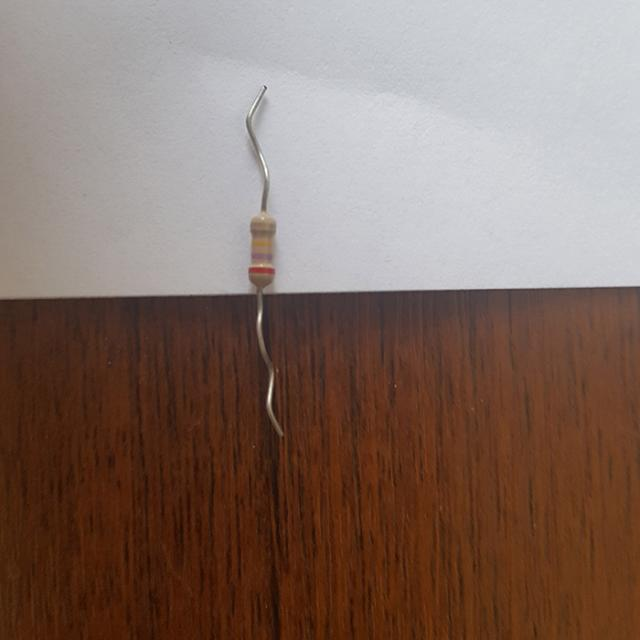gold: (251, 221, 274, 228)
red: (250, 266, 274, 272)
resistor: (236, 209, 284, 291)
violet: (252, 253, 272, 259)
yellow: (251, 240, 272, 245)
